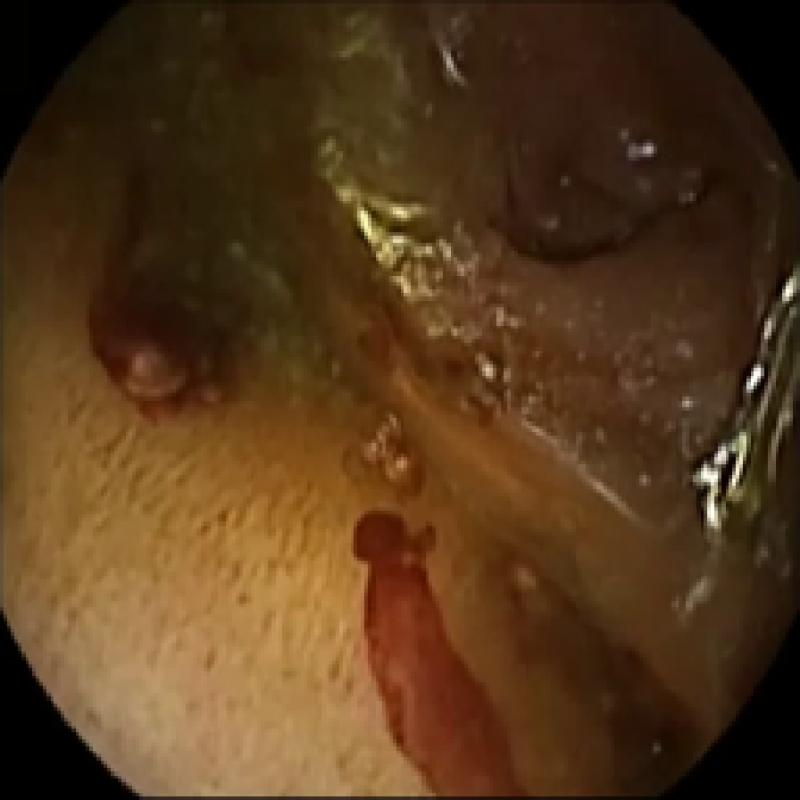bleeding: (357, 507, 511, 800), (86, 161, 225, 400), (564, 596, 703, 780), (497, 203, 675, 262)
